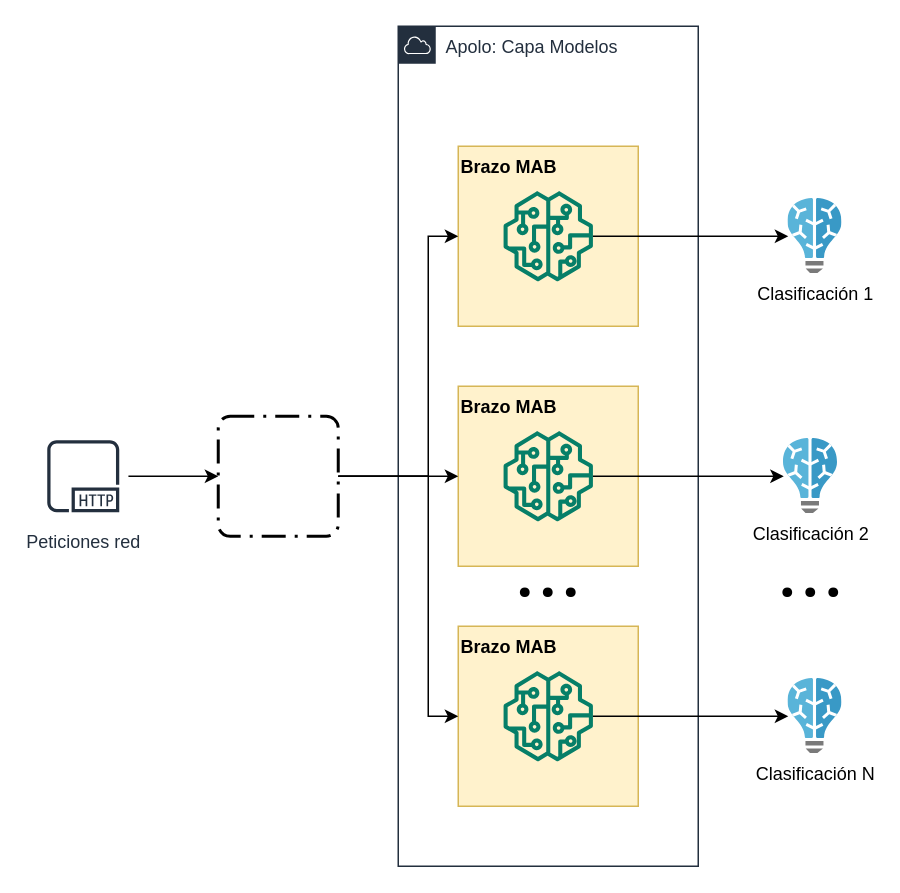
Some shapes in this 900 by 893 pixel diagram are drawn without their labels. Each missing label, with the centre of its shape:
Grupo de Modelo Clúster: the point at 277,475
Modelo 1: the point at 547,235
Modelo 2: the point at 547,475
Modelo N: the point at 547,715
